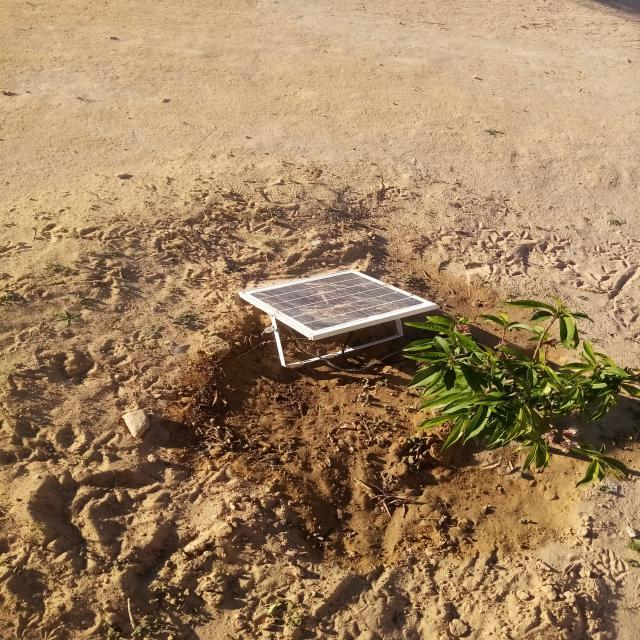faulty: (238, 269, 438, 336)
